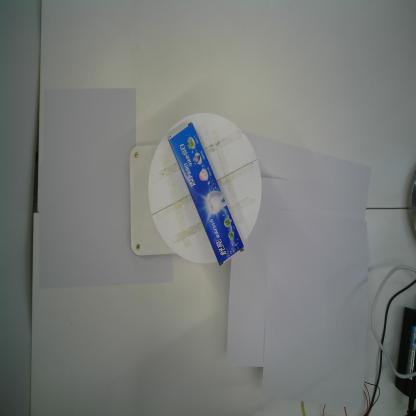Personal Hygiene: (166, 117, 246, 268)
